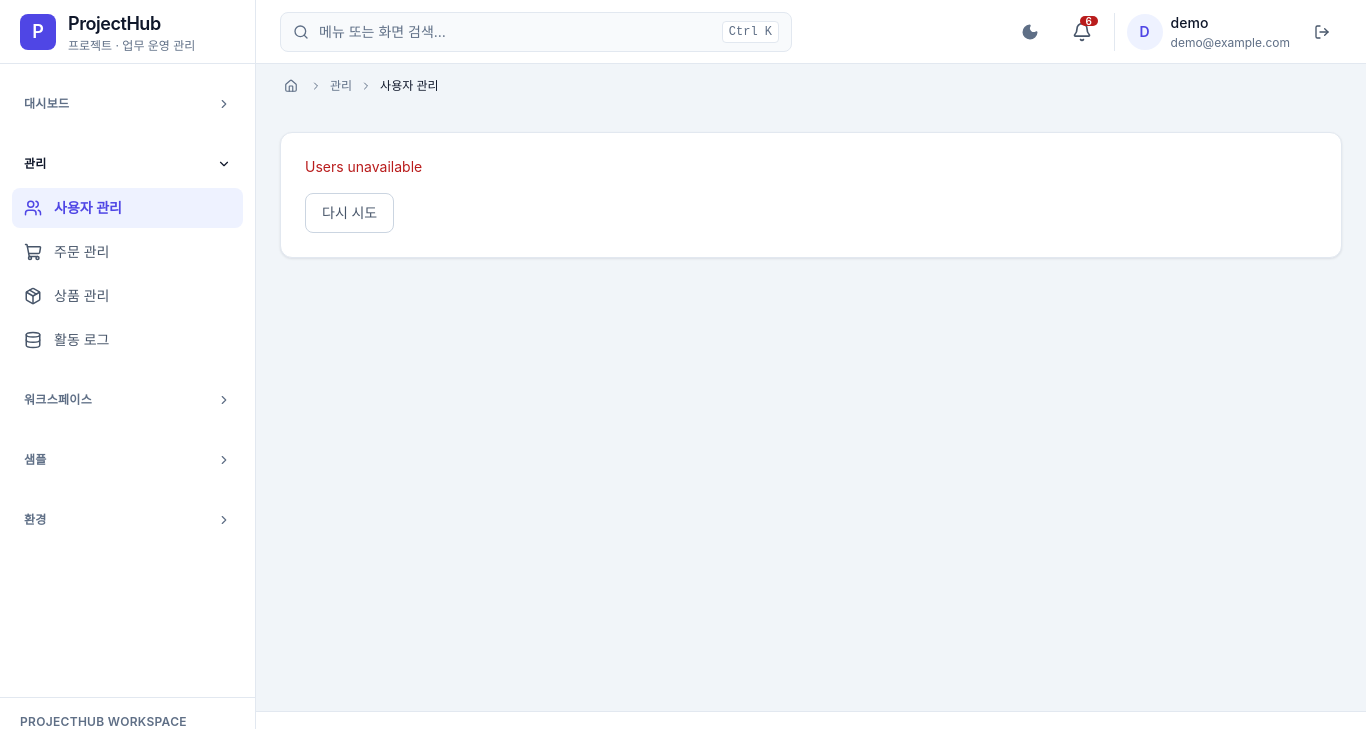
Scenario: route query loading › recovers a loader failure without removing dashboard navigation
Expected: the message shows "Users unavailable", [305,158,422,175]
Expected: the navigation bar named "주요 메뉴" is shown, [0,64,255,697]
Click the button "다시 시도" at {"x": 350, "y": 213}, box [305,193,394,233]
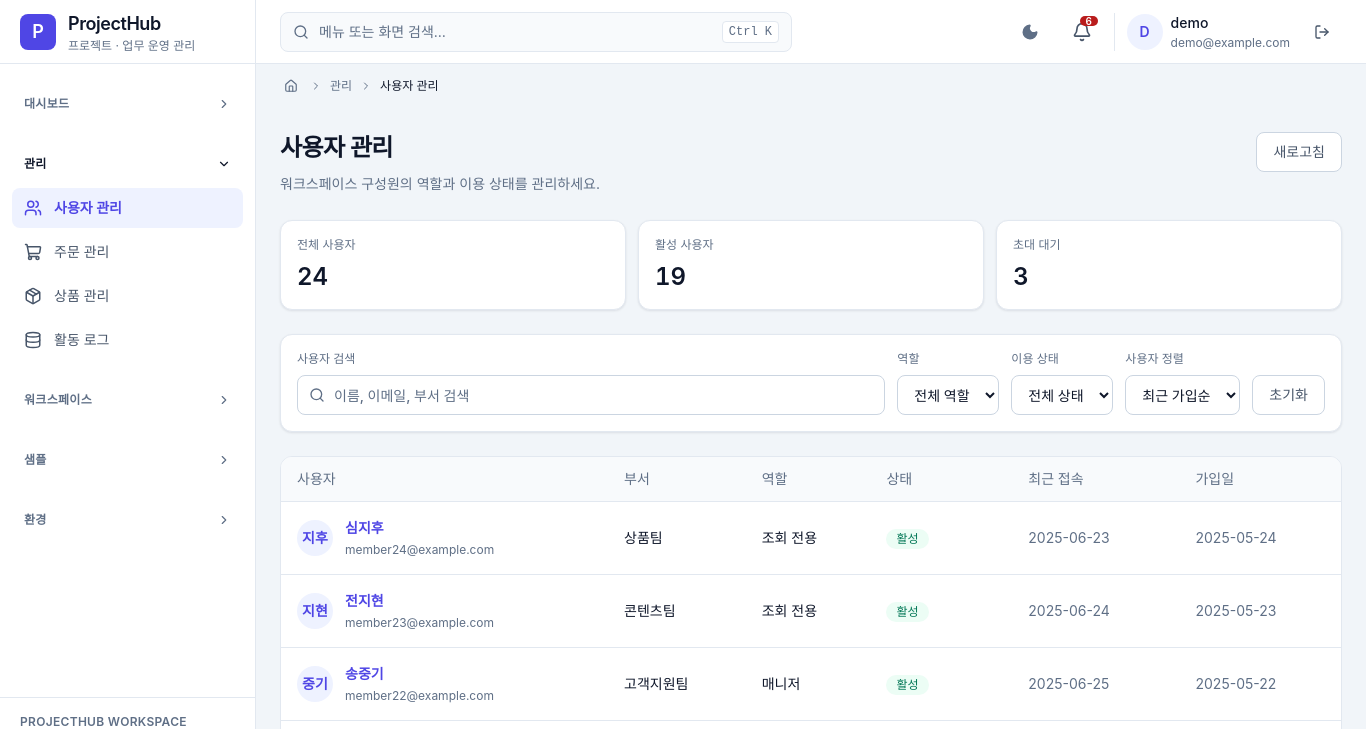
Expected: the heading "사용자 관리" is shown, [280,133,393,162]
Expected: the message "Users unavailable 다시 시도" is gone
